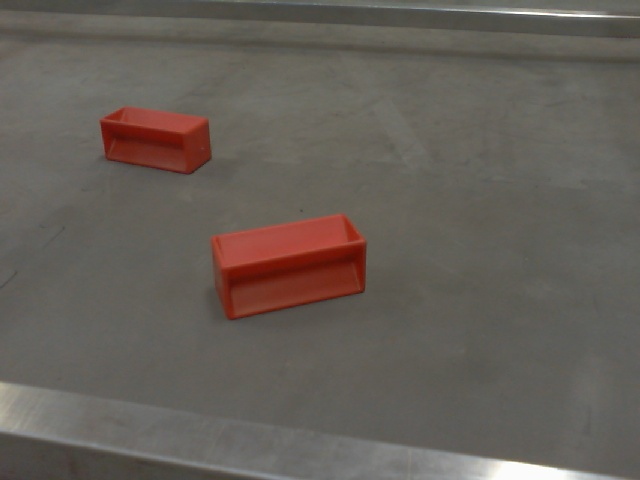RedSample: (204, 211, 369, 323), (99, 105, 213, 175)
